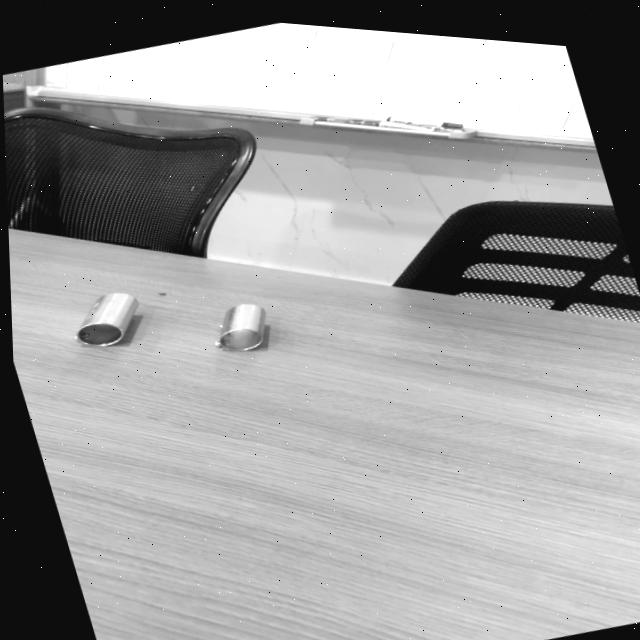Co_Lon: (74, 281, 143, 359)
Co_Nho: (215, 298, 271, 357)
